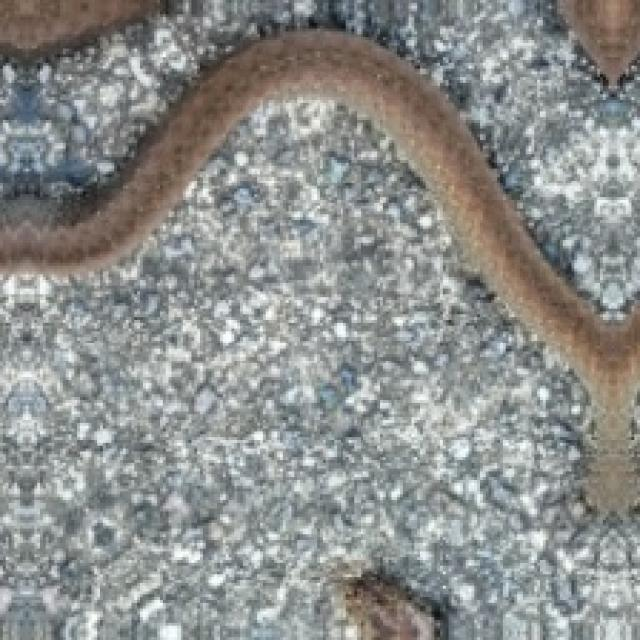reinhardts lined snake: (0, 29, 637, 511), (0, 0, 157, 54), (341, 574, 444, 640), (560, 0, 637, 86)
